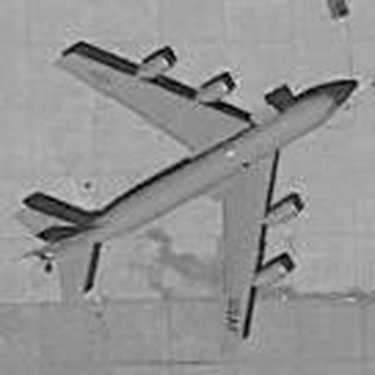airplane: (13, 24, 355, 352)
